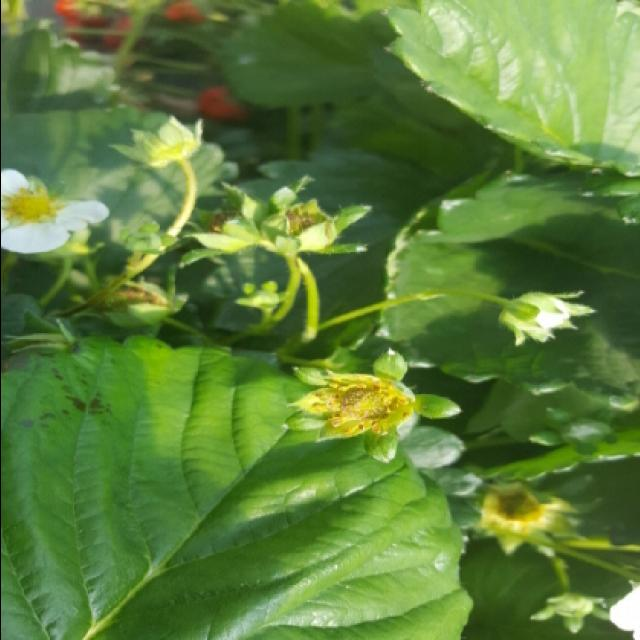Blossom Blight: (299, 371, 416, 439)
